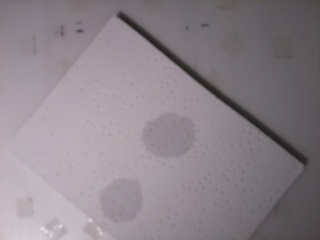Water_detected: (150, 121, 194, 164), (111, 178, 142, 213)
